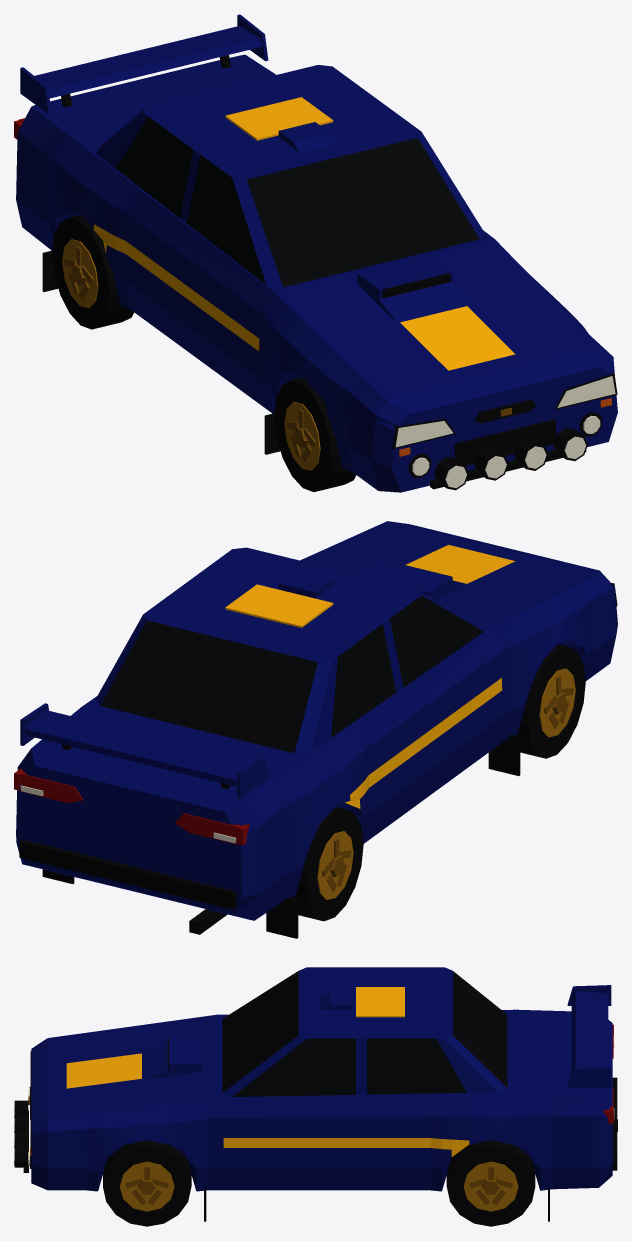
Rendered from impreza-555.glb.
3 renders of one model, top to bottom at view 1: azimuth 30°, elevation 25°; view 2: azimuth 150°, elevation 25°; view 3: azimuth 270°, elevation 25°, orthographic. The views are drawn at different scales.
Parts seen in each view (by area): view 1: body, cabin, cabin-body, body-yellow, wing, bonnet-scoop, wheel-back-right, wheel-front-right, roof-mark, mouth, rim-back-right, rim-front-right (+6 smaller); view 2: body, cabin, cabin-body, wing, body-yellow, bumper-rear, wheel-back-right, wheel-front-right, roof-mark, bonnet-scoop, rim-front-right, rim-back-right (+7 smaller); view 3: body, cabin, cabin-body, body-yellow, wheel-back-left, wheel-front-left, wing, bonnet-scoop, rim-back-left, rim-front-left, roof-mark, wing-plate-left (+3 smaller).
Part boxes in pixels (bbox=[...]): body: bbox=[16, 54, 617, 492]; cabin: bbox=[115, 116, 479, 287]; cabin-body: bbox=[96, 65, 483, 287]; body-yellow: bbox=[93, 224, 514, 370]; wing: bbox=[35, 26, 262, 98]; bonnet-scoop: bbox=[357, 255, 469, 322]; wheel-back-right: bbox=[52, 215, 133, 329]; wheel-front-right: bbox=[274, 377, 356, 491]; roof-mark: bbox=[225, 97, 333, 140]; mouth: bbox=[454, 419, 555, 465]; rim-back-right: bbox=[62, 239, 98, 308]; rim-front-right: bbox=[284, 402, 320, 470]; body: bbox=[16, 521, 617, 920]; cabin: bbox=[100, 595, 483, 753]; cabin-body: bbox=[95, 547, 483, 753]; wing: bbox=[25, 710, 253, 786]; body-yellow: bbox=[345, 545, 515, 808]; bumper-rear: bbox=[19, 839, 236, 909]; wheel-back-right: bbox=[291, 807, 363, 921]; wheel-front-right: bbox=[515, 644, 585, 758]; roof-mark: bbox=[225, 584, 333, 627]; bonnet-scoop: bbox=[358, 559, 469, 599]; rim-front-right: bbox=[539, 668, 575, 737]; rim-back-right: bbox=[317, 831, 353, 899]; body: bbox=[31, 1009, 612, 1191]; cabin: bbox=[222, 971, 507, 1096]; cabin-body: bbox=[222, 967, 506, 1096]; body-yellow: bbox=[66, 1053, 469, 1156]; wheel-back-left: bbox=[446, 1140, 535, 1226]; wheel-front-left: bbox=[103, 1140, 191, 1226]; wing: bbox=[571, 991, 608, 1071]; bonnet-scoop: bbox=[142, 1036, 202, 1079]; rim-back-left: bbox=[463, 1161, 518, 1211]; rim-front-left: bbox=[119, 1161, 174, 1211]; roof-mark: bbox=[356, 987, 404, 1017]; wing-plate-left: bbox=[567, 1067, 611, 1087].
Bounding box in the file's own units: 1.72 × 1.46 × 4.43.
